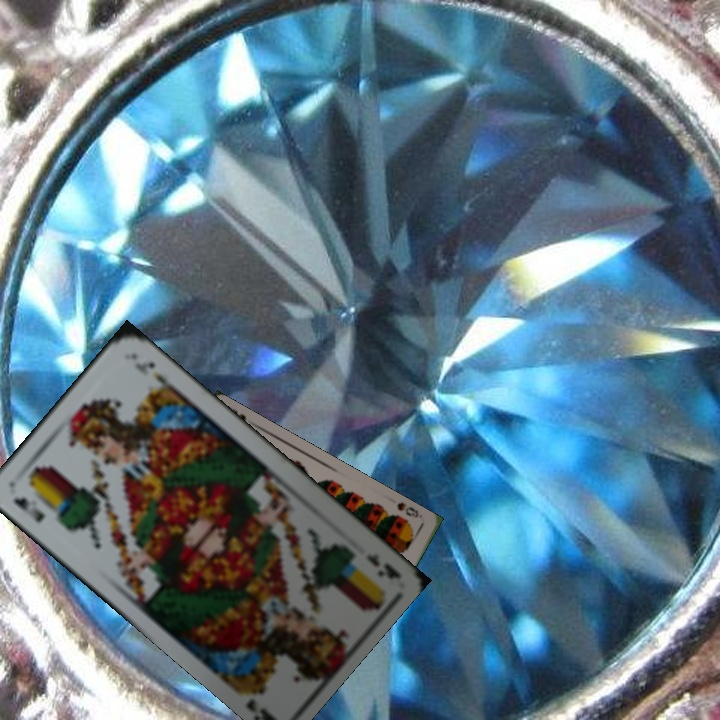EK: (362, 549, 403, 582), (10, 492, 48, 526)
S8: (393, 498, 425, 521)
